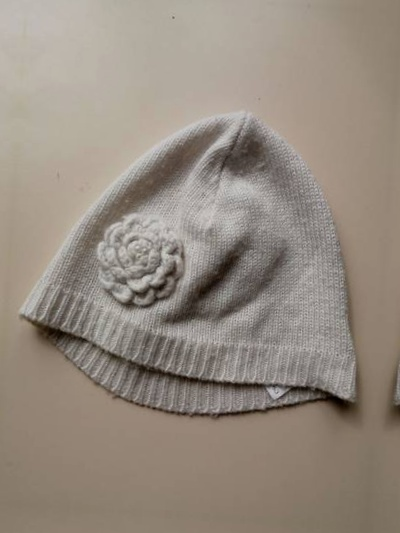Hat: (14, 78, 392, 434), (376, 103, 400, 458), (0, 52, 6, 408)
